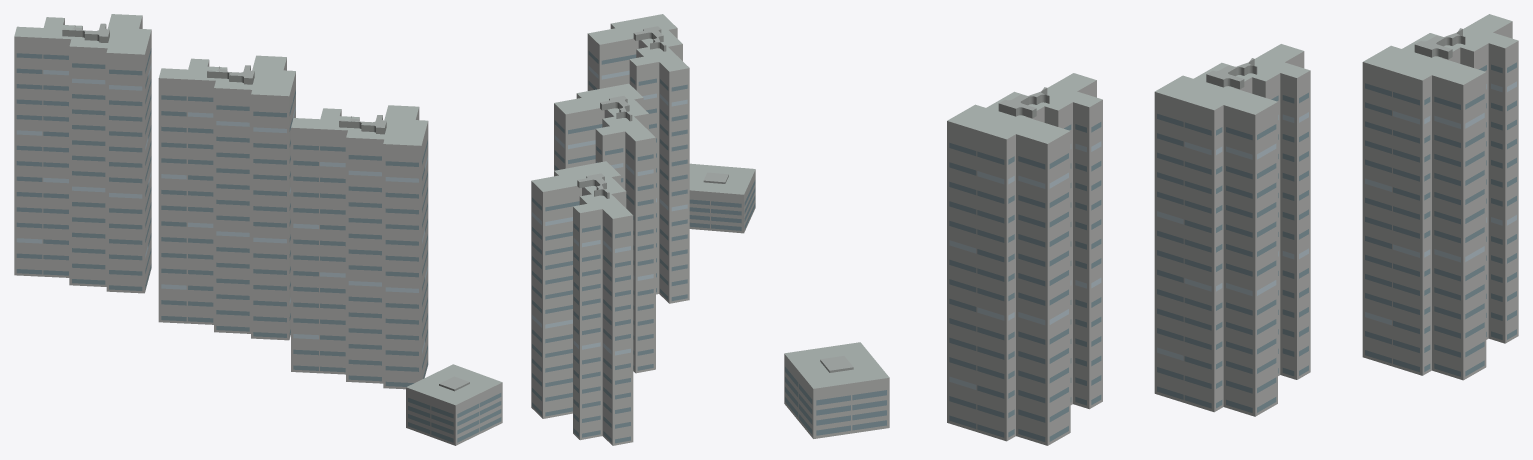
Rendered from apt-a10027474.glb.
3 renders of one model, left to right at view 1: azimuth 30°, elevation 25°; view 2: azimuth 150°, elevation 25°; view 3: azimuth 270°, elevation 25°, orthographic. The views are drawn at different scales.
Parts seen in each view (by area): view 1: apt-a10027474; view 2: apt-a10027474; view 3: apt-a10027474.
Part boxes in pixels (x1,y1,x2,y2): apt-a10027474: [14, 14, 502, 445]; apt-a10027474: [531, 14, 755, 445]; apt-a10027474: [784, 14, 1518, 445].
Bounding box in the file's own units: 88.87 × 94 × 202.
